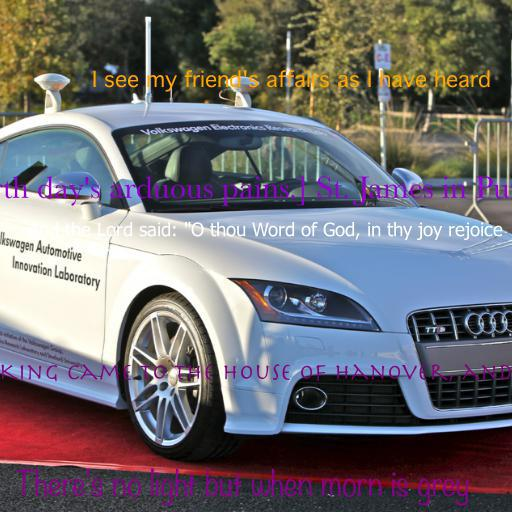Baskerville: (0, 176, 512, 206)
Geneva: (91, 70, 491, 92)
Herculanum: (0, 364, 512, 382)
Noteworthy: (16, 468, 470, 506)
Tahoma: (27, 221, 503, 241)
